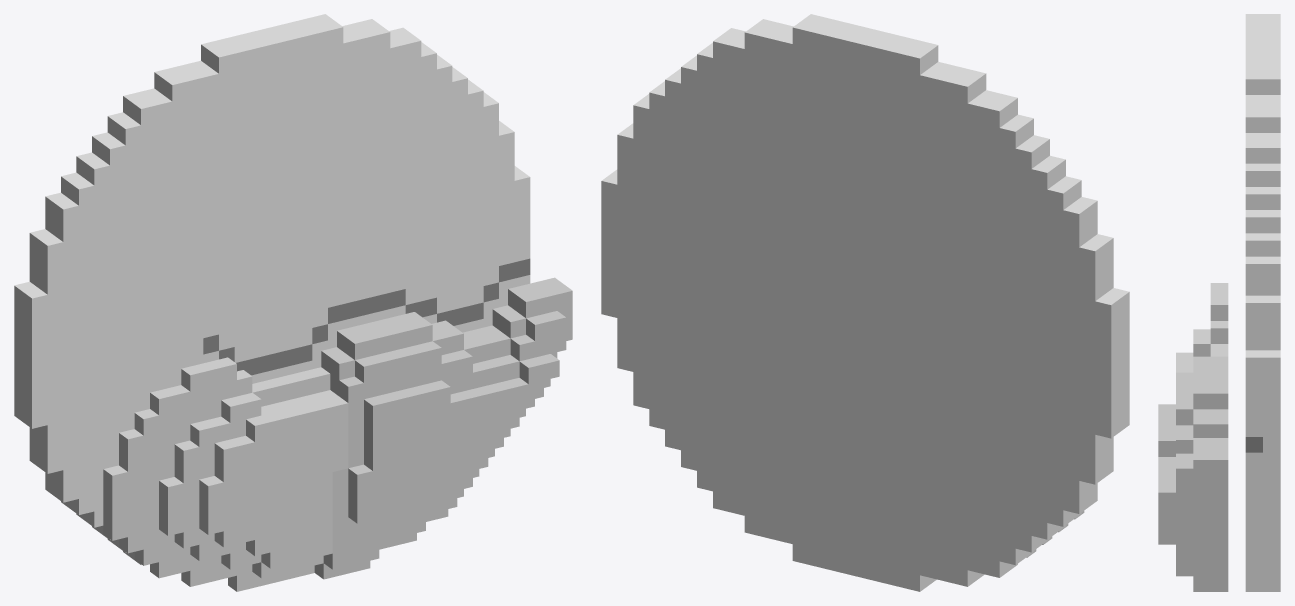
Rendered from fox2-1.obj.
The picture shows the model from 3 angles, left to right: view 1: azimuth 30°, elevation 25°; view 2: azimuth 150°, elevation 25°; view 3: azimuth 270°, elevation 25°; orthographic projection. The views are drawn at different scales.
Bounding box in the file's own units: 3.3 × 3.2 × 0.7.
Materials: 1 (1 with a texture image).
